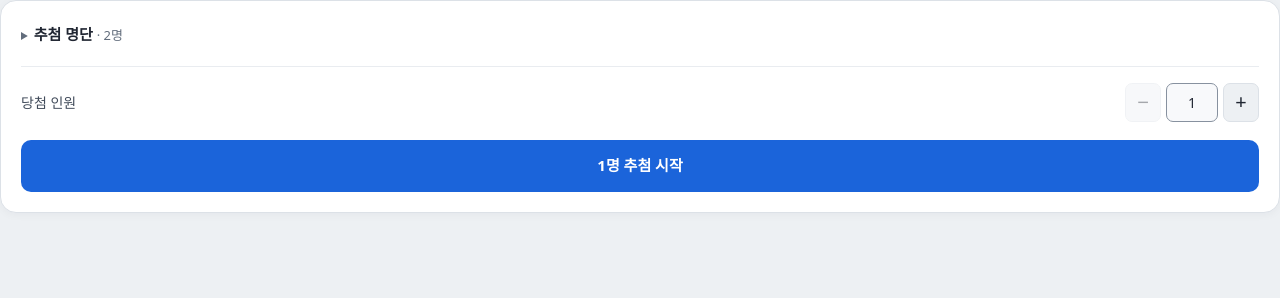
Test: LotterySettingsPanel › blocks an invalid manually entered winner count
The image size is (1280, 298).
Clear the number field labelled "당첨 인원": (1192, 102) [1166,82,1218,122]
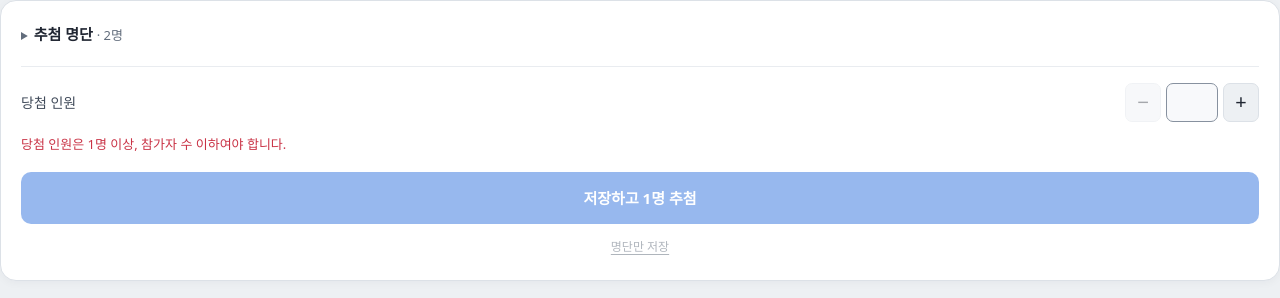
Now the message shows "당첨 인원", box [21,134,286,152]
Now the button "명단만 저장" is disabled, box [603,234,677,260]
Now the button "저장하고 1명 추첨" is disabled, box [21,172,1259,224]
